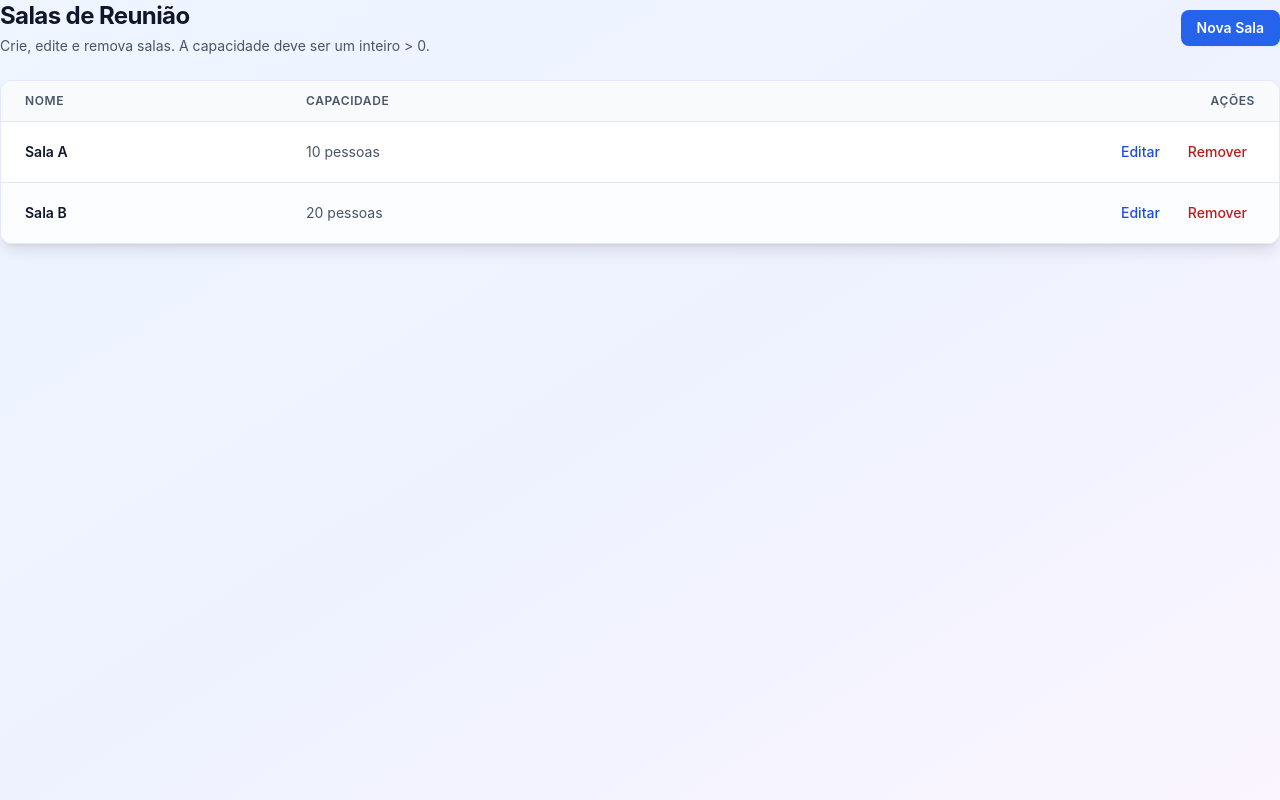
it: Testes Frontend - Gerenciar Salas › Deve abrir formulário ao clicar em "Nova Sala"
The image size is (1280, 800).
Click the button "Nova Sala": (1230,28) [1181,10,1279,46]
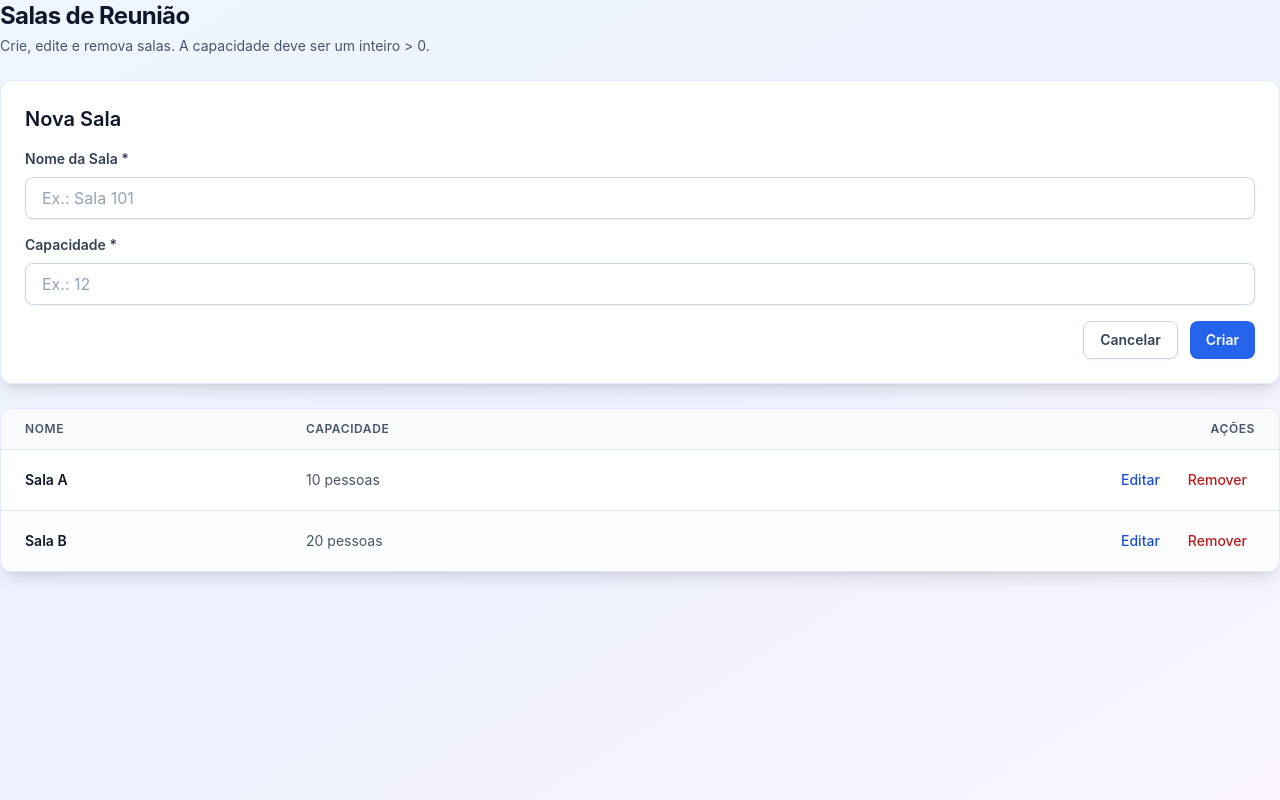
Check: the heading "Nova Sala" is shown, box [25,107,121,131]
Check: the field labelled "Nome da Sala *" is shown, box [25,177,1255,219]
Check: the number field labelled "Capacidade *" is shown, box [25,263,1255,305]
